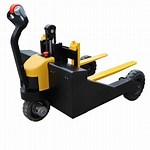Pallet Jack: (6, 3, 145, 124)
